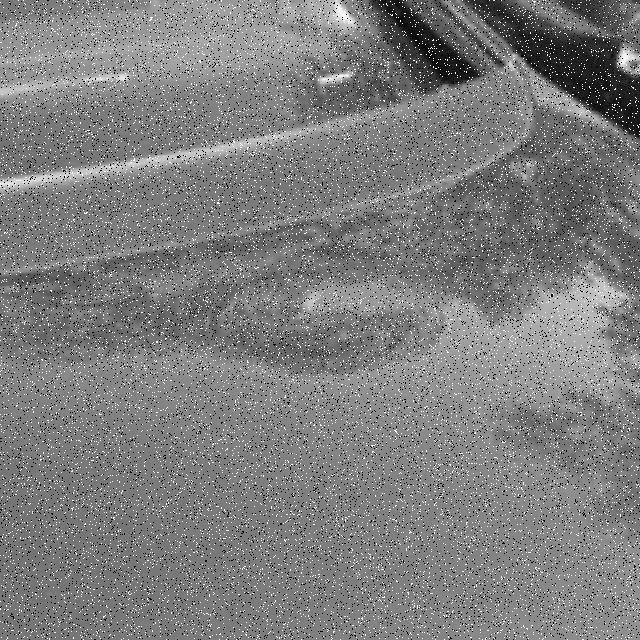bonnet-dent: (10, 169, 577, 637)
